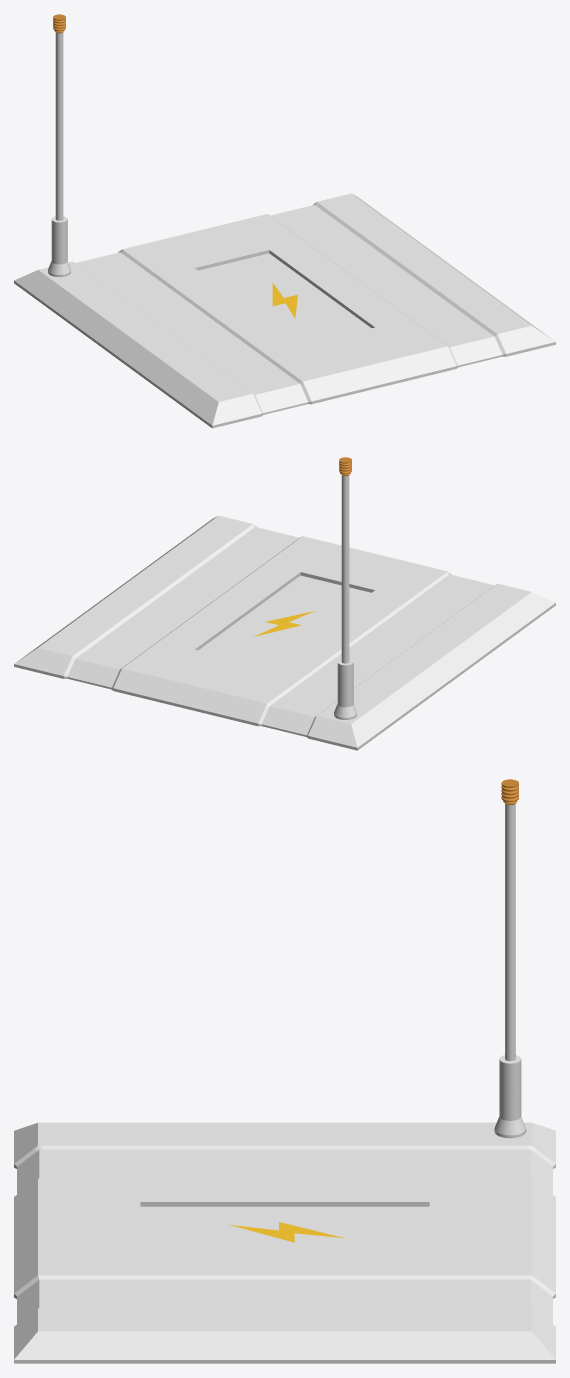
Rendered from ChargingPad.fbx.
3 views of the same model, one above another, from view 1: azimuth 30°, elevation 25°; view 2: azimuth 150°, elevation 25°; view 3: azimuth 270°, elevation 25° (orthographic). The views are drawn at different scales.
Visible parts, largest first — view 1: ChargingPad; view 2: ChargingPad; view 3: ChargingPad.
Part boxes in pixels (left/top/right/bottom): ChargingPad: left=14, top=14, right=555, bottom=428; ChargingPad: left=14, top=457, right=555, bottom=750; ChargingPad: left=14, top=779, right=555, bottom=1363.
Size of the model in its own units: 100 by 75.47 by 100.
